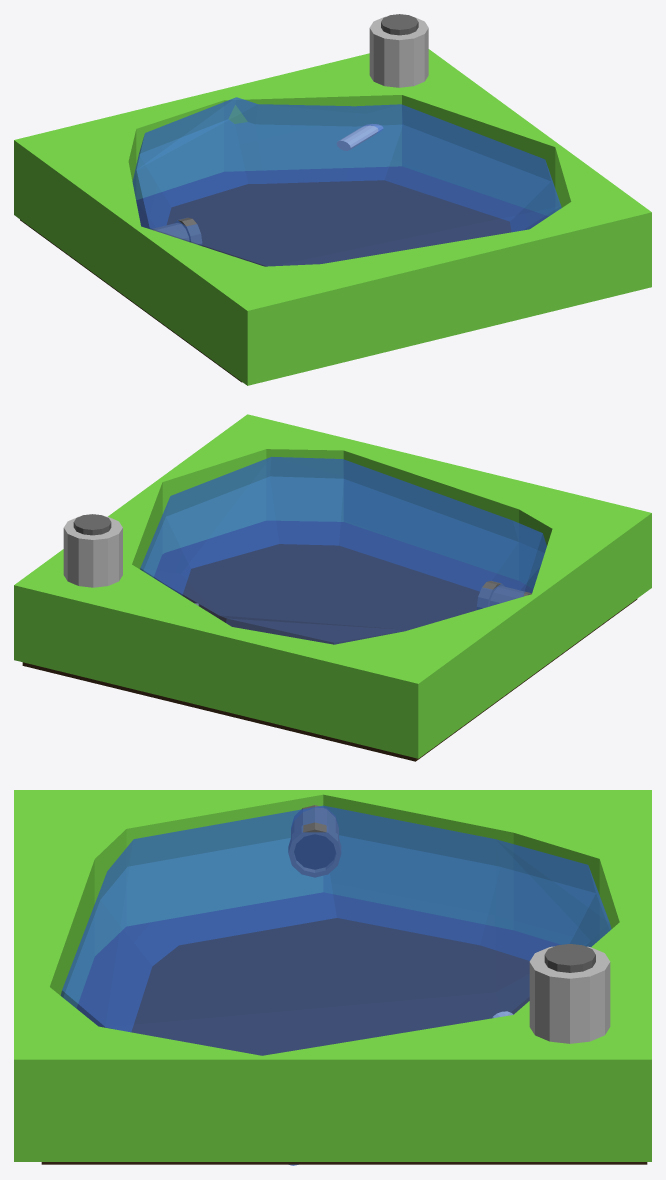
File: lakefilter.fbx
3 renders of one model, top to bottom at view 1: azimuth 30°, elevation 25°; view 2: azimuth 150°, elevation 25°; view 3: azimuth 270°, elevation 25°, orthographic. The views are drawn at different scales.
Visible parts, largest first — view 1: Plane, Plane.001, Cube, Cylinder, Cylinder.001, Cylinder.003, Cylinder.002; view 2: Plane, Plane.001, Cube, Cylinder, Cylinder.001, Cylinder.003; view 3: Plane, Plane.001, Cube, Cylinder, Cylinder.001, Cylinder.003.
Boxes of the visible parts, <box> form: Plane: <box>14,49,651,385</box>; Plane.001: <box>132,97,561,266</box>; Cube: <box>20,166,547,382</box>; Cylinder: <box>369,16,428,87</box>; Cylinder.001: <box>151,217,202,245</box>; Cylinder.003: <box>381,14,418,35</box>; Cylinder.002: <box>336,124,382,150</box>; Plane: <box>14,414,651,758</box>; Plane.001: <box>140,456,546,644</box>; Cube: <box>22,521,637,761</box>; Cylinder: <box>63,516,122,587</box>; Cylinder.001: <box>476,581,531,609</box>; Cylinder.003: <box>73,514,111,535</box>; Plane: <box>14,790,651,1161</box>; Plane.001: <box>60,805,611,1165</box>; Cube: <box>41,892,647,1164</box>; Cylinder: <box>529,946,610,1043</box>; Cylinder.001: <box>288,805,341,877</box>; Cylinder.003: <box>544,944,595,972</box>.
Size of the model in its own units: 951 by 353 by 951.
